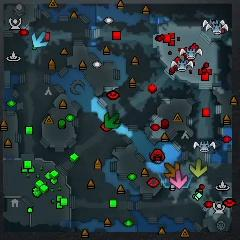x1: (170, 170, 188, 189)
x2: (189, 159, 208, 178)
x3: (32, 32, 48, 48)
x4: (104, 112, 120, 130)
x5: (165, 162, 180, 177)
